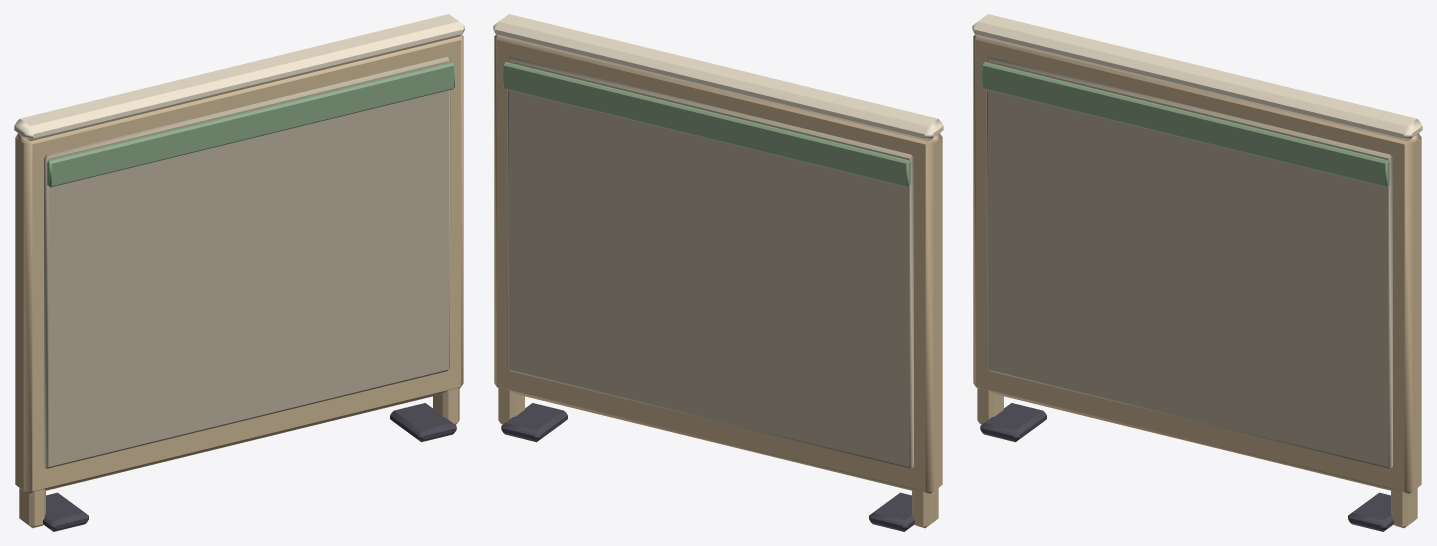
The model's file is era_cubicle.glb.
3 views of the same model, side by side, from view 1: azimuth 30°, elevation 25°; view 2: azimuth 150°, elevation 25°; view 3: azimuth 330°, elevation 25° (orthographic).
Parts seen in each view (by area): view 1: era_cubicle; view 2: era_cubicle; view 3: era_cubicle.
Part boxes in pixels (x1,y1,x2,y2): era_cubicle: (14, 14, 464, 531); era_cubicle: (493, 14, 943, 531); era_cubicle: (972, 14, 1422, 531).
Size of the model in its own units: 0.96 by 0.84 by 0.12.
